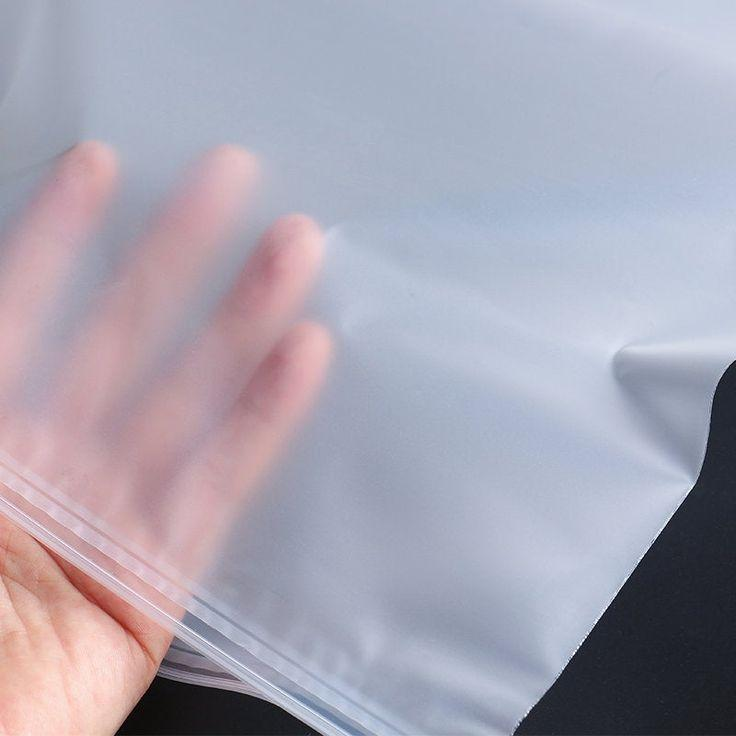PP: (0, 0, 736, 480)
